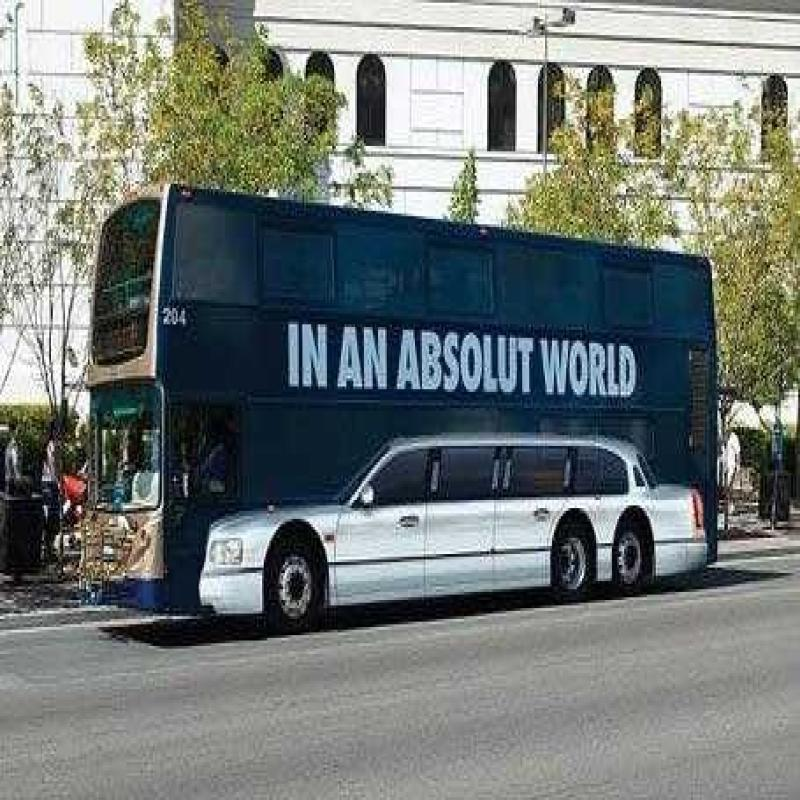bus: (70, 134, 736, 662)
